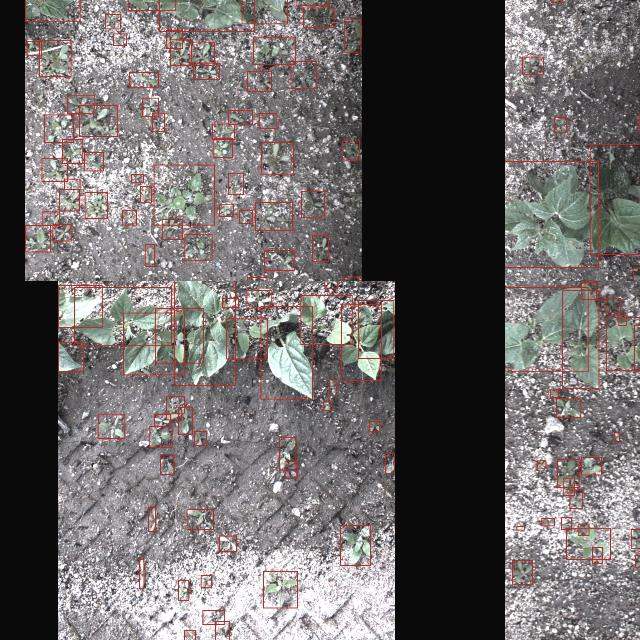crop: (505, 161, 598, 267), (505, 287, 587, 371), (173, 281, 234, 384), (73, 286, 171, 346), (589, 144, 640, 254), (260, 306, 312, 398), (122, 312, 184, 374), (562, 290, 598, 388), (341, 304, 381, 380), (158, 0, 254, 30), (300, 294, 352, 344), (358, 299, 394, 357), (605, 316, 640, 369), (57, 285, 101, 327), (24, 0, 79, 20), (241, 0, 287, 22), (58, 341, 82, 371), (127, 0, 175, 10)
weed: (153, 164, 213, 224), (155, 308, 203, 362), (226, 318, 266, 358), (262, 570, 298, 608), (566, 528, 610, 558), (252, 36, 296, 64), (79, 104, 117, 136), (340, 525, 370, 565), (39, 40, 70, 76), (254, 201, 292, 229), (261, 141, 293, 173), (44, 114, 72, 142), (184, 233, 212, 259), (290, 61, 316, 88), (24, 225, 50, 251), (96, 414, 124, 438), (556, 458, 578, 488), (302, 7, 334, 27), (264, 250, 294, 270), (42, 157, 66, 181), (84, 192, 106, 218), (302, 191, 324, 217), (190, 41, 213, 65), (279, 436, 295, 469), (170, 39, 190, 65), (186, 509, 212, 529), (344, 19, 360, 51), (66, 95, 94, 113), (62, 139, 82, 163), (247, 71, 271, 91), (512, 560, 532, 584), (556, 398, 580, 418), (246, 289, 272, 307), (58, 188, 78, 210), (149, 426, 171, 446), (128, 72, 158, 86), (312, 235, 328, 261), (193, 62, 219, 78), (161, 219, 181, 239), (177, 406, 191, 434), (342, 140, 360, 160), (522, 56, 542, 74), (581, 456, 601, 474), (212, 123, 234, 139), (228, 110, 252, 124), (214, 138, 232, 156), (84, 152, 102, 170), (633, 324, 640, 369), (228, 172, 242, 194), (202, 609, 224, 623), (52, 223, 70, 240), (214, 620, 229, 640), (142, 98, 158, 116), (166, 29, 182, 47), (259, 112, 277, 128), (218, 535, 236, 551), (166, 396, 184, 412), (580, 282, 596, 300), (159, 454, 173, 474), (569, 489, 581, 508), (42, 211, 58, 225), (26, 40, 40, 56), (104, 14, 120, 28), (604, 298, 620, 312), (144, 244, 154, 266), (152, 112, 164, 130), (562, 477, 574, 495), (178, 579, 188, 599), (384, 452, 394, 472), (122, 210, 136, 224), (554, 116, 566, 132), (285, 461, 297, 477), (153, 414, 169, 426), (630, 528, 640, 547), (138, 558, 144, 588), (219, 203, 233, 215), (238, 210, 252, 222), (112, 33, 126, 45), (194, 430, 206, 444), (140, 186, 150, 202), (592, 547, 602, 563), (148, 506, 154, 532), (200, 575, 212, 587), (64, 178, 78, 188), (328, 379, 336, 395), (222, 298, 238, 306), (561, 517, 571, 529), (632, 267, 640, 281), (166, 412, 180, 420), (540, 517, 554, 525), (183, 630, 194, 640), (369, 421, 379, 432), (578, 524, 588, 534), (131, 174, 143, 182), (247, 277, 267, 281), (322, 400, 330, 410), (536, 460, 546, 468), (617, 315, 625, 325), (324, 281, 337, 287), (634, 554, 640, 567), (550, 389, 558, 397), (614, 432, 618, 442), (516, 525, 524, 529)
